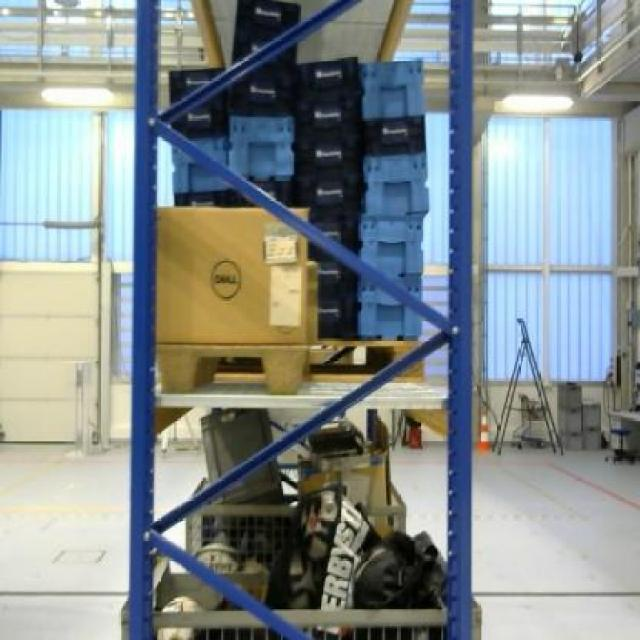box: (156, 202, 310, 342)
